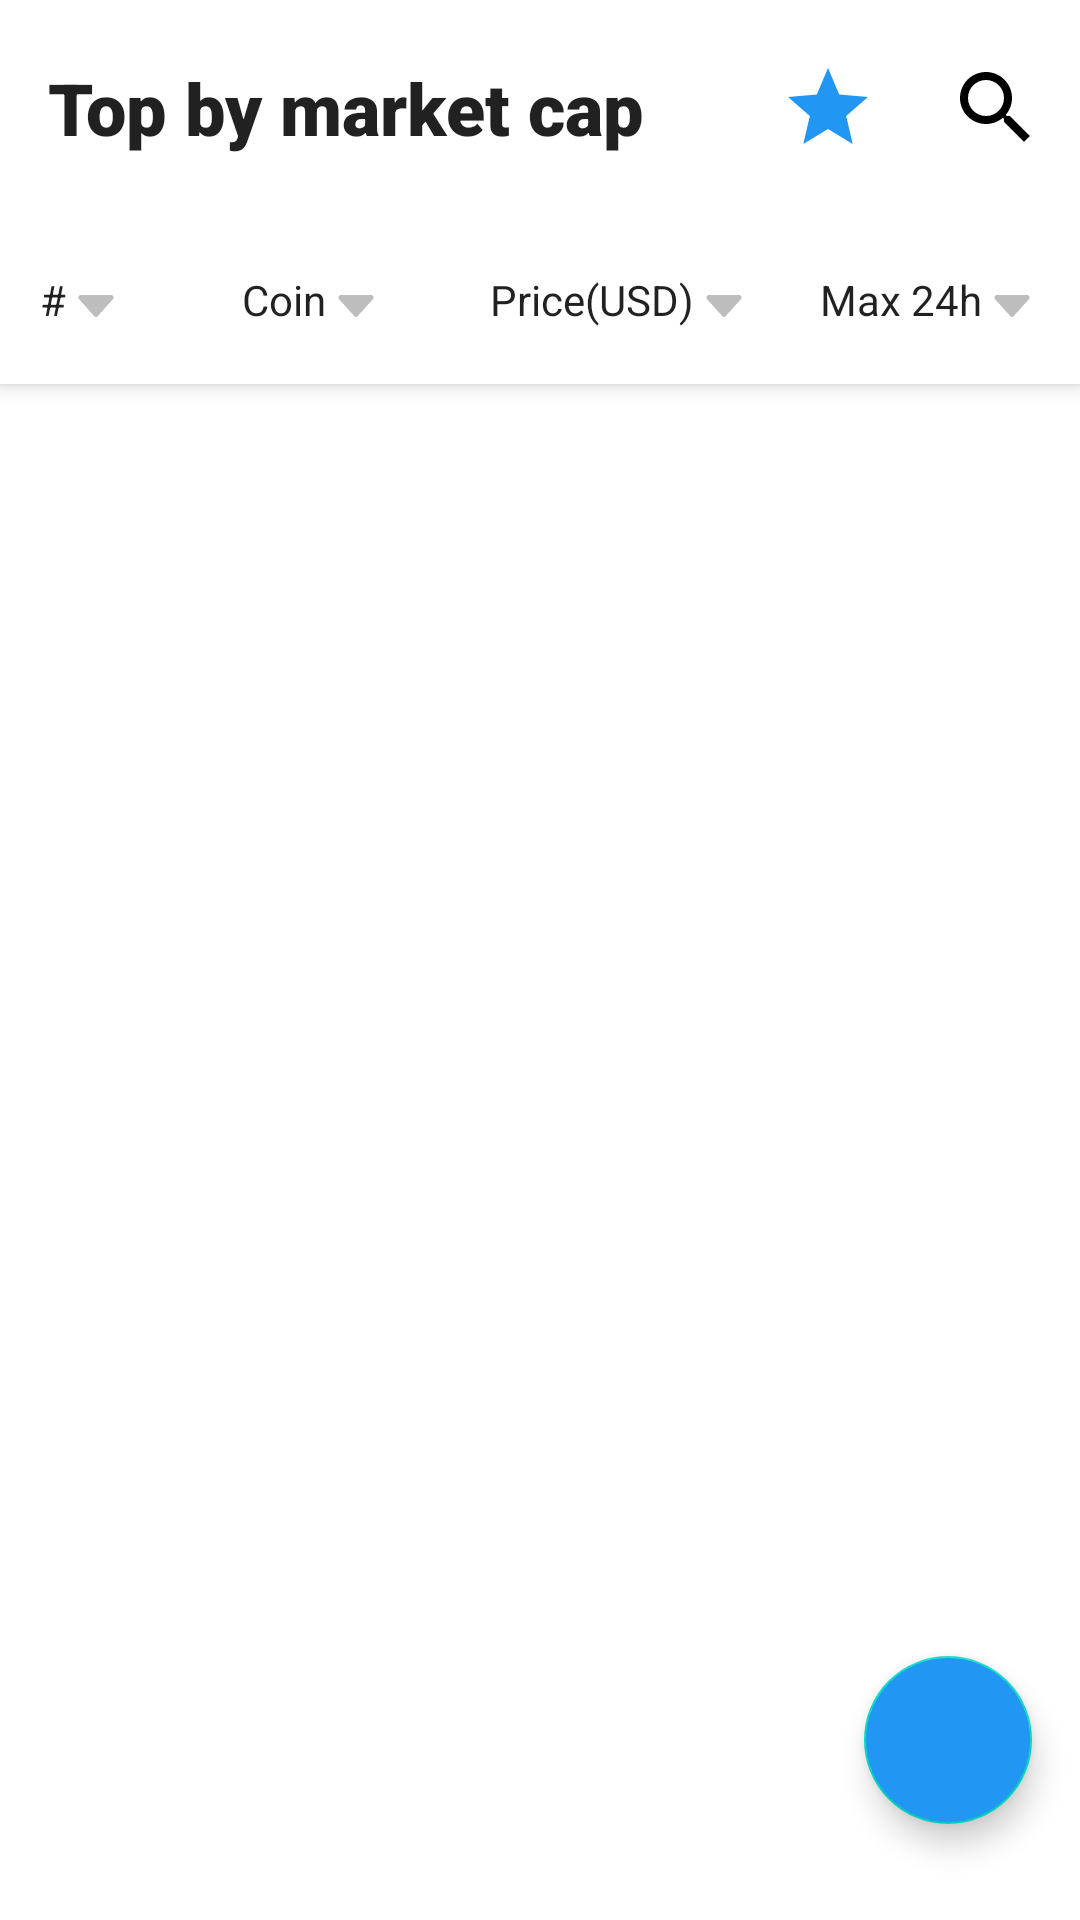

Icons on this 1080*1920 Android screen, each with its box as rect(x1, y1, x2, y2):
sorting symbol: rect(78, 295, 114, 317)
